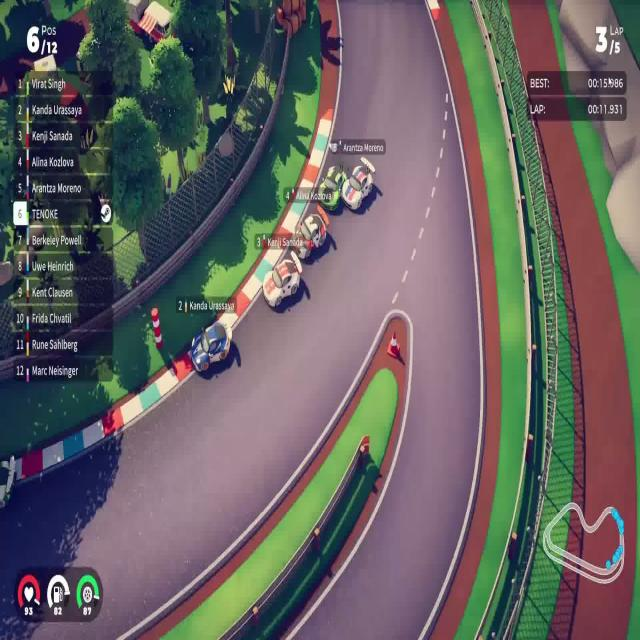car: (262, 248, 302, 310), (189, 320, 232, 374), (293, 202, 330, 260), (340, 155, 376, 211), (317, 162, 347, 212)
